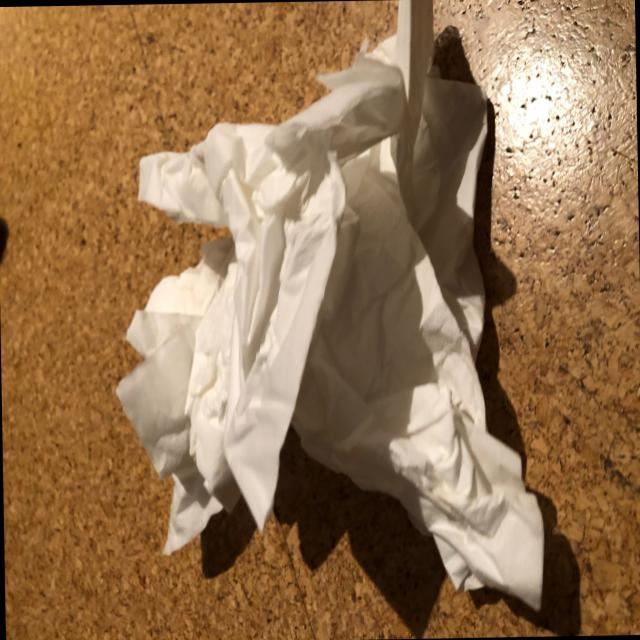organic waste: (105, 0, 545, 615), (222, 132, 546, 581)
